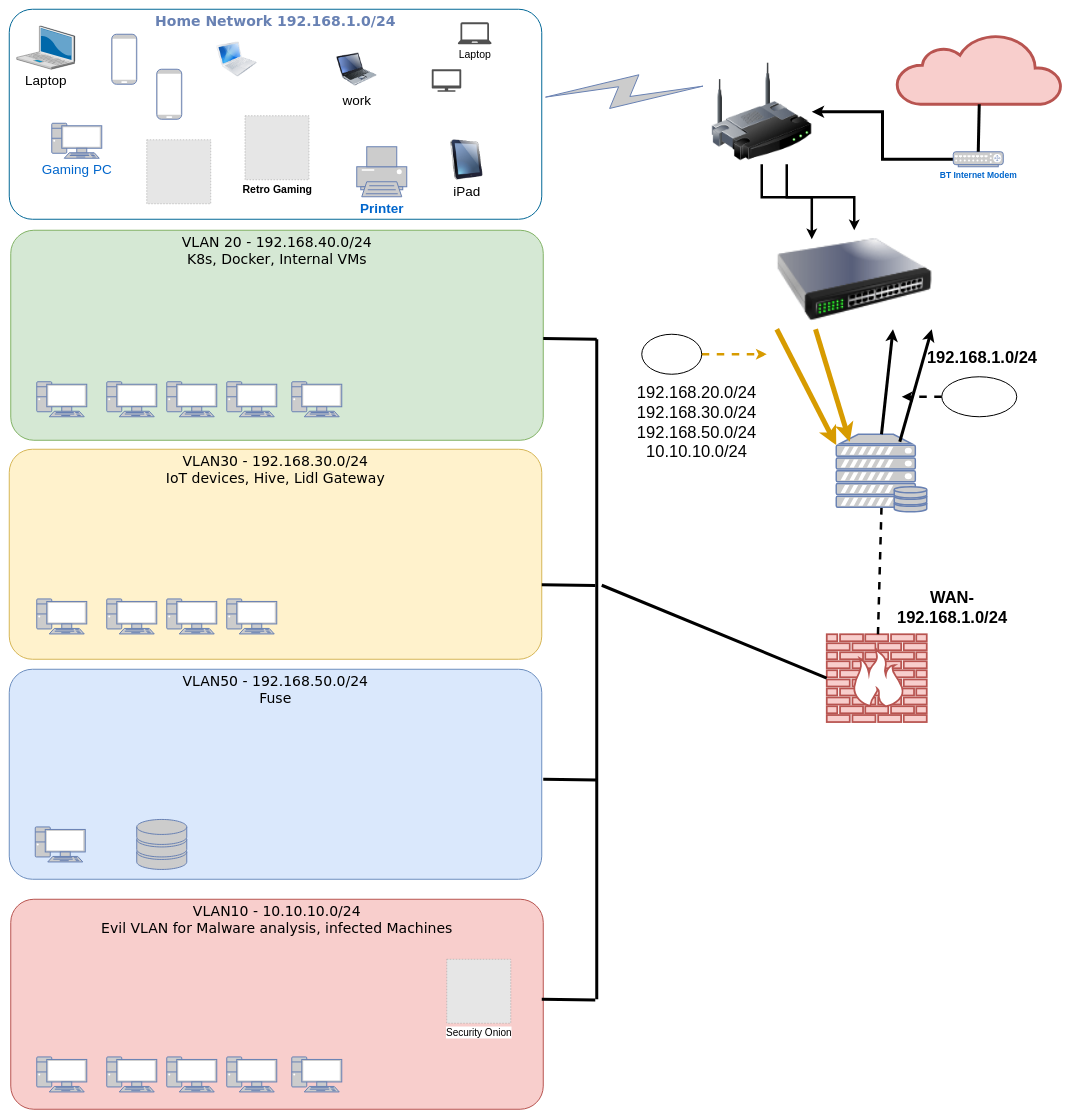
This 1071x1118 diagram has some shape labels left out. Grey dashed boxes stand in for pictures. The centre of each missing label's shape, as x and y in pixels:
"Bond0 Internet" goes at point 979,396.
"Bond1 pfSense LAN" goes at point 671,354.
"Internet" goes at point 979,69.
"Macbook" goes at point 236,59.
"OpenWRT" goes at point 762,111.
"PfSense - LAN 192.168.55.1/24" goes at point 876,678.
"Smart TV" goes at point 446,80.
